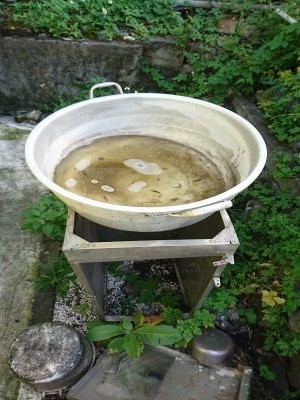bowl: (24, 90, 270, 234), (7, 319, 96, 394), (188, 327, 235, 369)
